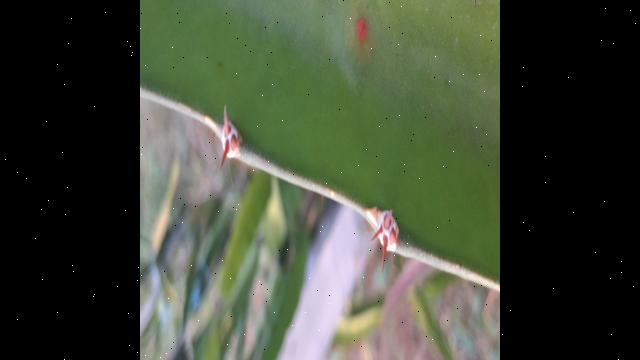stemcanker: (342, 9, 382, 66)
